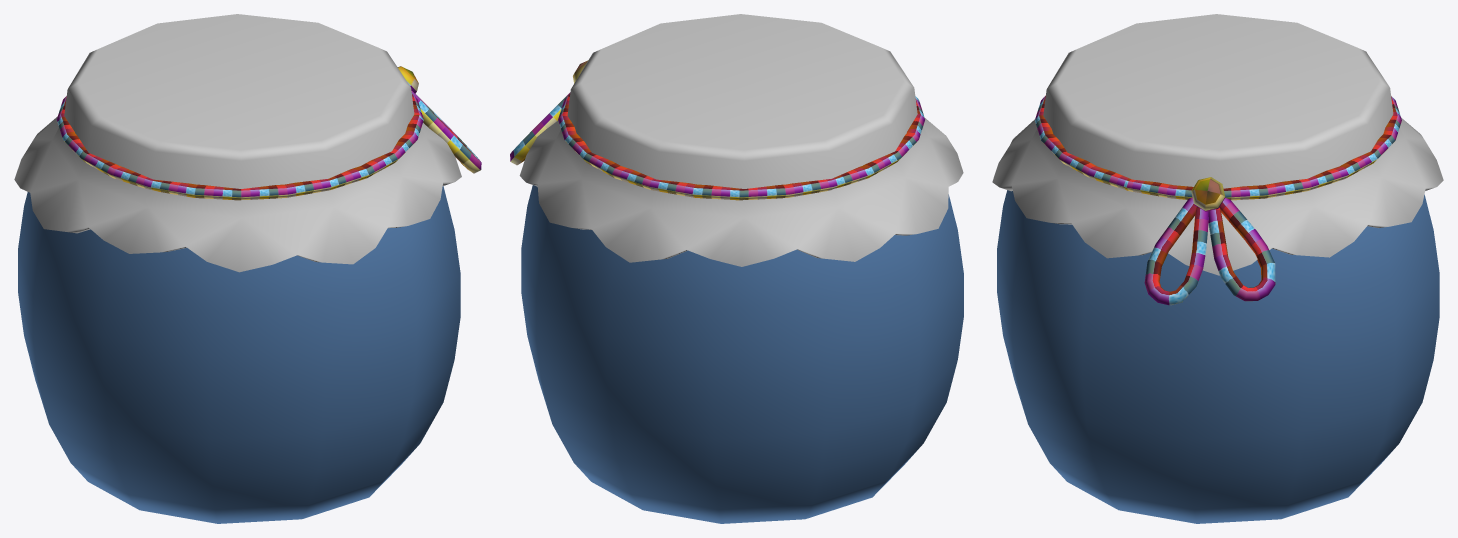
The model's file is SM_Jar_4.fbx.
3 renders of one model, left to right at view 1: azimuth 30°, elevation 25°; view 2: azimuth 150°, elevation 25°; view 3: azimuth 270°, elevation 25°, orthographic.
Visible parts, largest first — view 1: SM_Jar_4; view 2: SM_Jar_4; view 3: SM_Jar_4.
Part boxes in pixels (left/top/right/bottom): SM_Jar_4: left=14, top=14, right=481, bottom=523; SM_Jar_4: left=510, top=14, right=963, bottom=523; SM_Jar_4: left=992, top=14, right=1443, bottom=523.
Bounding box in the file's own units: 36.97 × 32.16 × 35.18.
